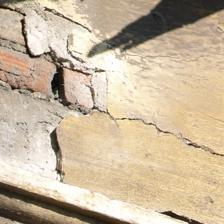Crack: (96, 104, 223, 160), (19, 8, 96, 100), (48, 111, 91, 186)
